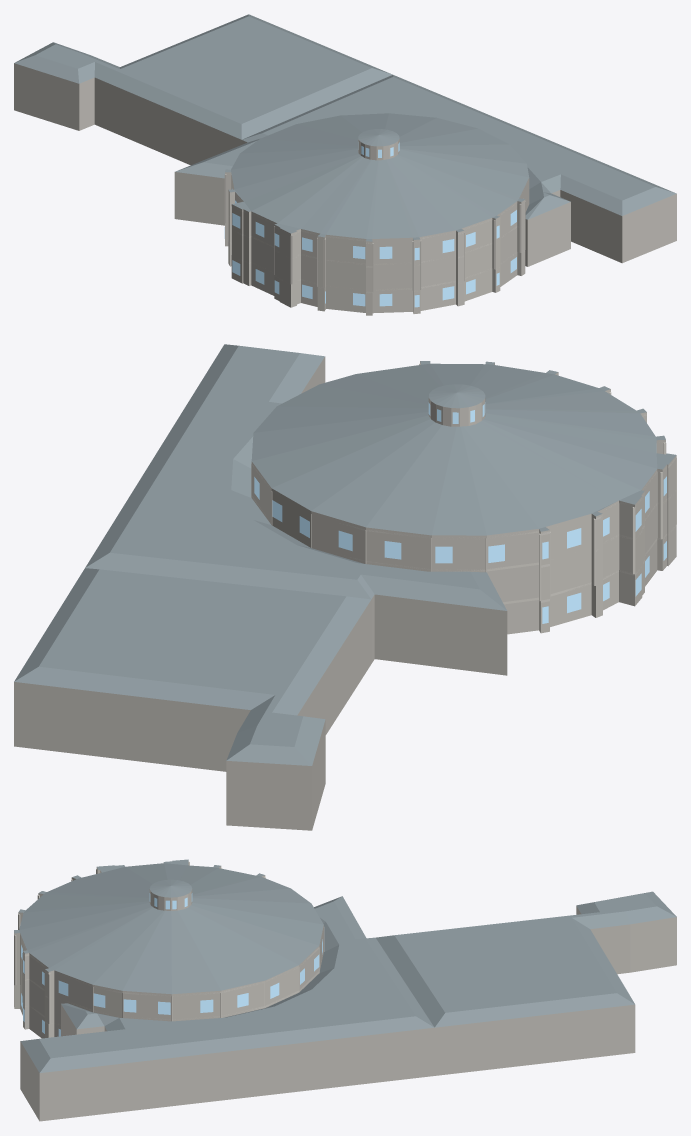
The picture shows the model from 3 angles, top to bottom: view 1: azimuth 30°, elevation 25°; view 2: azimuth 150°, elevation 25°; view 3: azimuth 270°, elevation 25°; orthographic projection. The views are drawn at different scales.
Visible parts, largest first — view 1: roof, stone, window, trim; view 2: roof, stone, window, trim; view 3: roof, stone, window, trim.
Boxes of the visible parts, box(x1,y1,x2,y2) form: roof: box(14, 14, 676, 241); stone: box(14, 63, 676, 315); window: box(224, 142, 516, 307); trim: box(224, 173, 528, 293); roof: box(14, 344, 676, 765); stone: box(14, 356, 676, 830); window: box(254, 402, 666, 623); trim: box(251, 362, 676, 604); roof: box(14, 859, 676, 1072); stone: box(14, 862, 676, 1121); window: box(21, 893, 322, 1036); trim: box(14, 861, 324, 1025).
Bounding box in the file's own units: 57.86 × 17.2 × 87.05.
